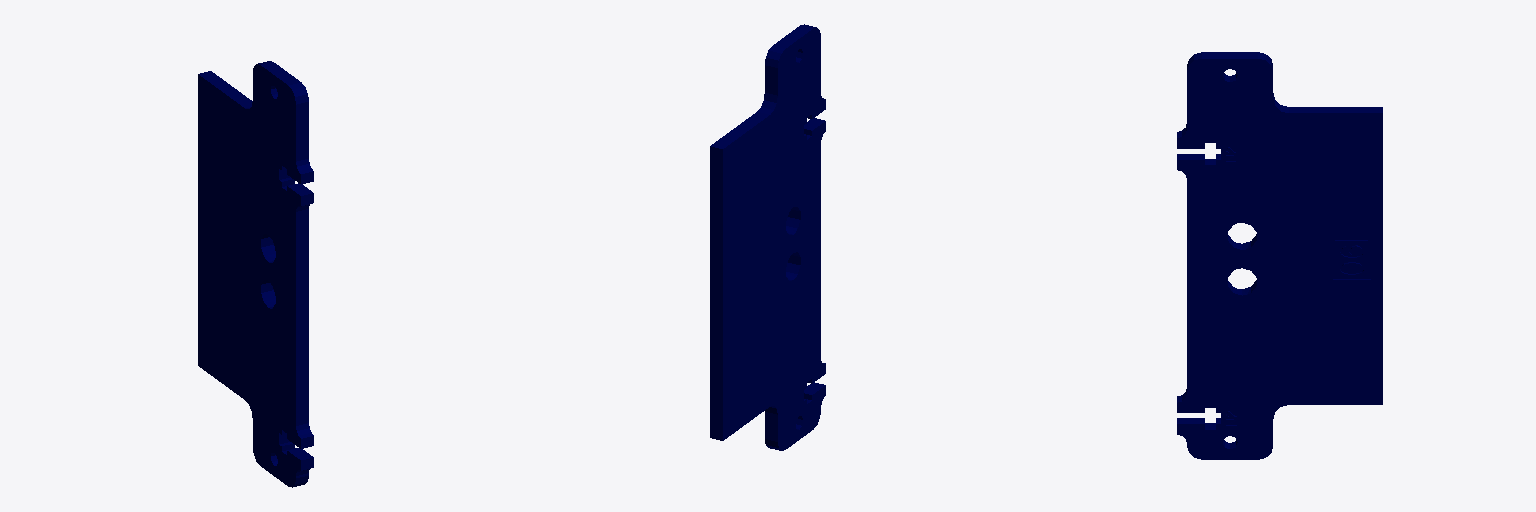
File: hat_support.obj
3 views of the same model, side by side, from view 1: azimuth 30°, elevation 25°; view 2: azimuth 150°, elevation 25°; view 3: azimuth 270°, elevation 25° (orthographic).
Parts seen in each view (by area): view 1: 4007-00_Support_Hut; view 2: 4007-00_Support_Hut; view 3: 4007-00_Support_Hut.
Part boxes in pixels (x1,y1,x2,y2): 4007-00_Support_Hut: (198,61,313,487); 4007-00_Support_Hut: (710,24,825,450); 4007-00_Support_Hut: (1177,52,1382,459).
Bounding box in the file's own units: 0.003 × 0.088 × 0.041.